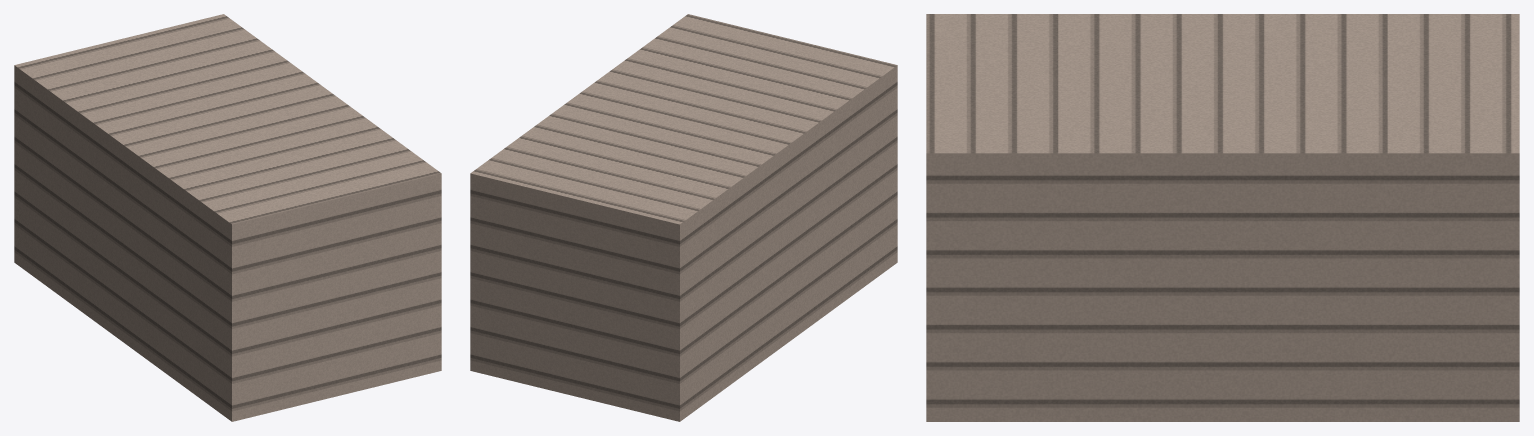
The model's file is vehicle_atv.glb.
The picture shows the model from 3 angles, left to right: view 1: azimuth 30°, elevation 25°; view 2: azimuth 150°, elevation 25°; view 3: azimuth 270°, elevation 25°; orthographic projection. The views are drawn at different scales.
Visible parts, largest first — view 1: vehicle_atv-col; view 2: vehicle_atv-col; view 3: vehicle_atv-col.
Part boxes in pixels (bbox=[...]): vehicle_atv-col: bbox=[14, 14, 441, 421]; vehicle_atv-col: bbox=[470, 14, 897, 421]; vehicle_atv-col: bbox=[926, 14, 1519, 421].
Size of the model in its own units: 1 by 0.9 by 1.8.
Materials: 1 (1 with a texture image).
